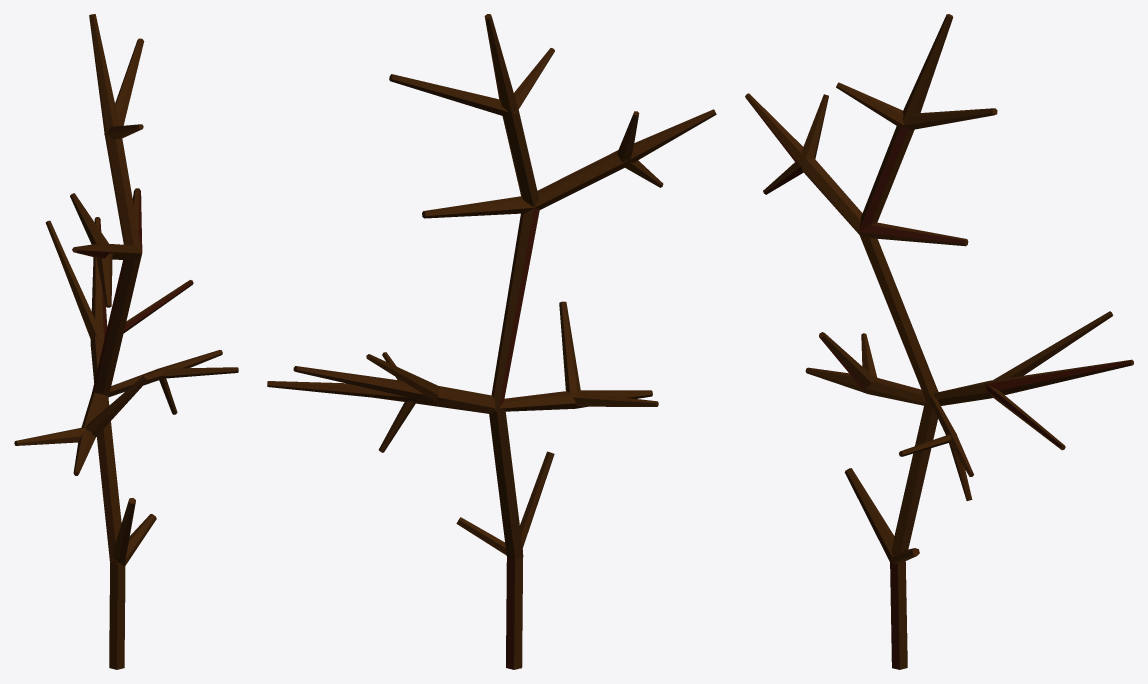
Rendered from Tree.fbx.
The picture shows the model from 3 angles, left to right: view 1: azimuth 30°, elevation 25°; view 2: azimuth 150°, elevation 25°; view 3: azimuth 270°, elevation 25°; orthographic projection. The views are drawn at different scales.
Parts seen in each view (by area): view 1: Tree; view 2: Tree; view 3: Tree.
Boxes of the visible parts, x1=… form: Tree: x1=14, y1=14, x2=238, y2=669; Tree: x1=267, y1=14, x2=716, y2=669; Tree: x1=745, y1=14, x2=1133, y2=669.
Size of the model in its own units: 196 by 434 by 235.
